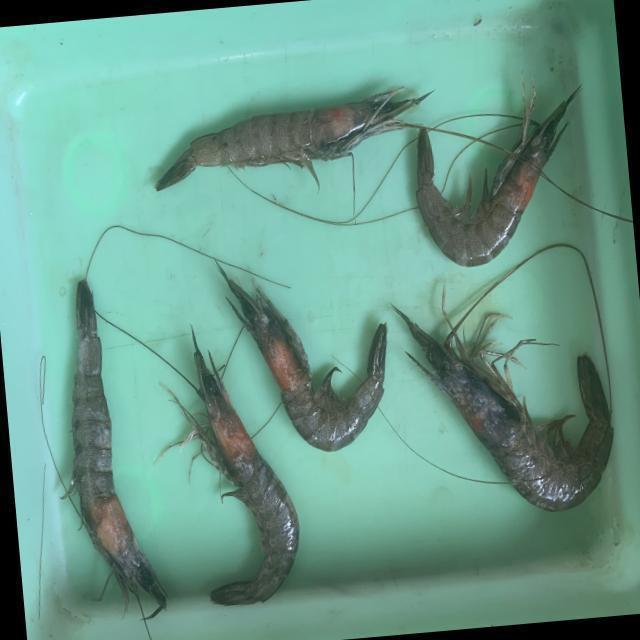shrimp: (393, 288, 614, 512), (168, 327, 298, 606), (67, 281, 165, 618), (217, 266, 387, 451), (416, 87, 581, 266), (154, 89, 430, 190)
